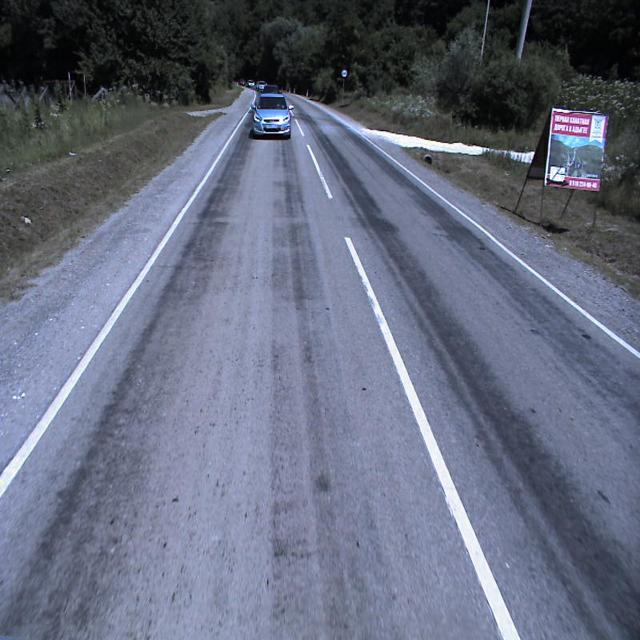road: (0, 93, 640, 639), (248, 89, 257, 99)
